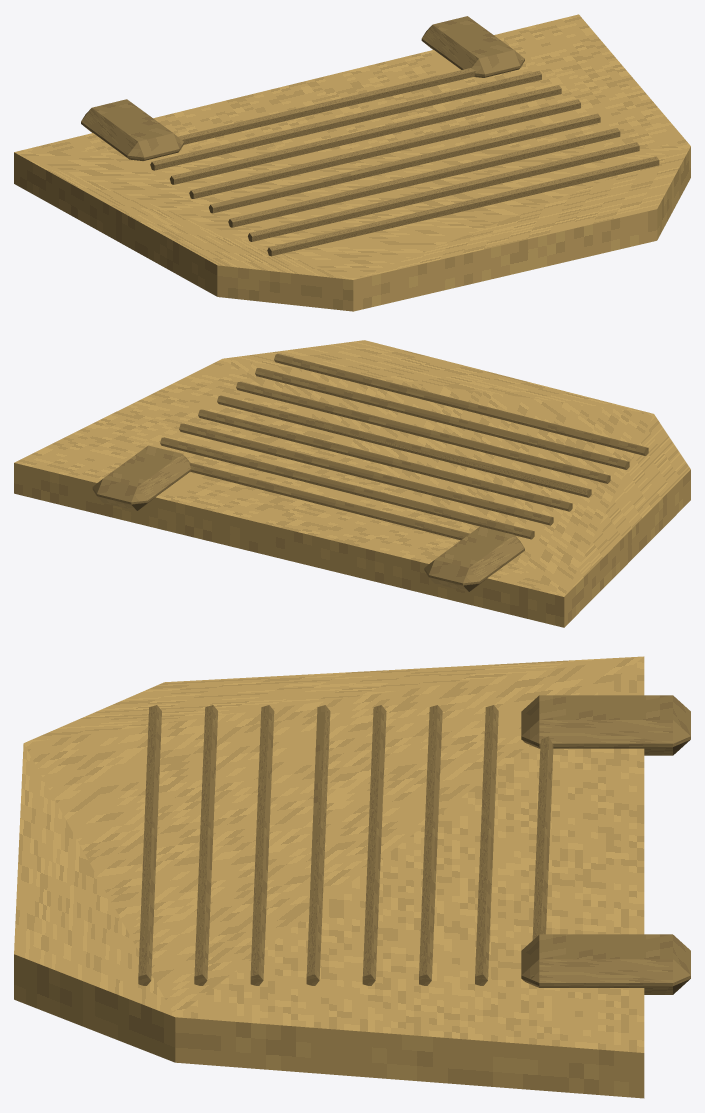
File: mesh_nape_protector.glb
3 renders of one model, top to bottom at view 1: azimuth 30°, elevation 25°; view 2: azimuth 150°, elevation 25°; view 3: azimuth 270°, elevation 25°, orthographic. The views are drawn at different scales.
Visible parts, largest first — view 1: block_curved protective guard, block_mesh textile rib 0 (×8), block_nape helmet attachment (×2); view 2: block_curved protective guard, block_mesh textile rib 0 (×8), block_nape helmet attachment (×2); view 3: block_curved protective guard, block_mesh textile rib 0 (×8), block_nape helmet attachment (×2).
Boxes of the visible parts, x1=… form: block_curved protective guard: x1=14, y1=14, x2=690, y2=311; block_mesh textile rib 0 (×8): x1=150, y1=59, x2=659, y2=256; block_nape helmet attachment (×2): x1=81, y1=16, x2=524, y2=160; block_curved protective guard: x1=14, y1=340, x2=690, y2=627; block_mesh textile rib 0 (×8): x1=160, y1=354, x2=648, y2=540; block_nape helmet attachment (×2): x1=92, y1=445, x2=524, y2=591; block_curved protective guard: x1=14, y1=656, x2=644, y2=1098; block_mesh textile rib 0 (×8): x1=138, y1=705, x2=553, y2=985; block_nape helmet attachment (×2): x1=521, y1=695, x2=690, y2=994.
Size of the model in its own units: 0.1263 by 0.0101 by 0.0911.
Materials: 1 (1 with a texture image).
